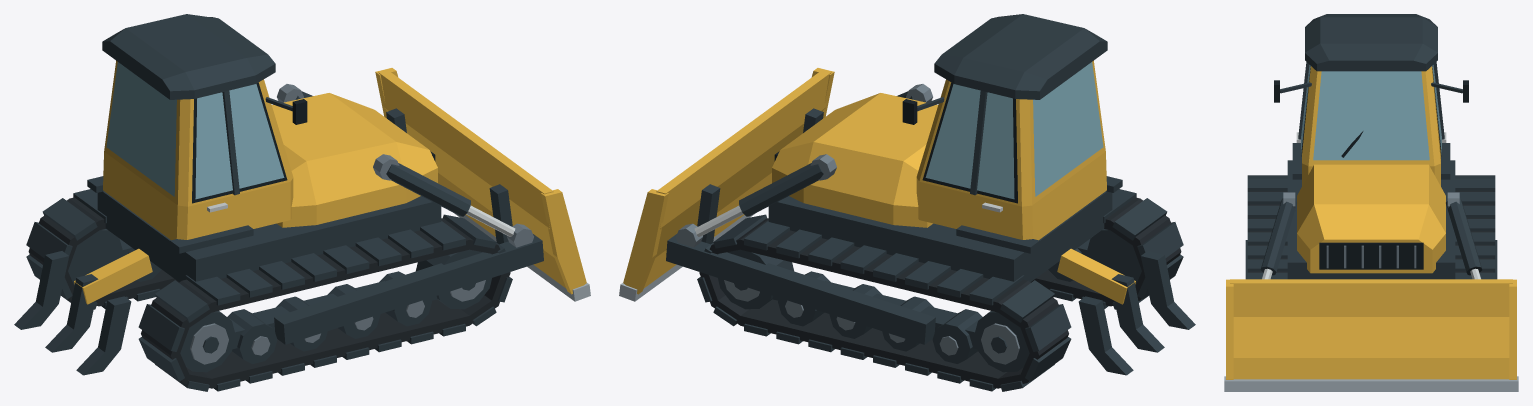
Rendered from b07_crawler_bulldozer.glb.
The picture shows the model from 3 angles, left to right: view 1: azimuth 30°, elevation 25°; view 2: azimuth 150°, elevation 25°; view 3: azimuth 270°, elevation 25°; orthographic projection. The views are drawn at different scales.
Visible parts, largest first — view 1: b07_crawler_bulldozer; view 2: b07_crawler_bulldozer; view 3: b07_crawler_bulldozer.
Boxes of the visible parts, x1=… form: b07_crawler_bulldozer: x1=14, y1=14, x2=590, y2=391; b07_crawler_bulldozer: x1=619, y1=14, x2=1195, y2=391; b07_crawler_bulldozer: x1=1224, y1=14, x2=1518, y2=391.
Bounding box in the file's own units: 4.83 × 2.9 × 3.16.
